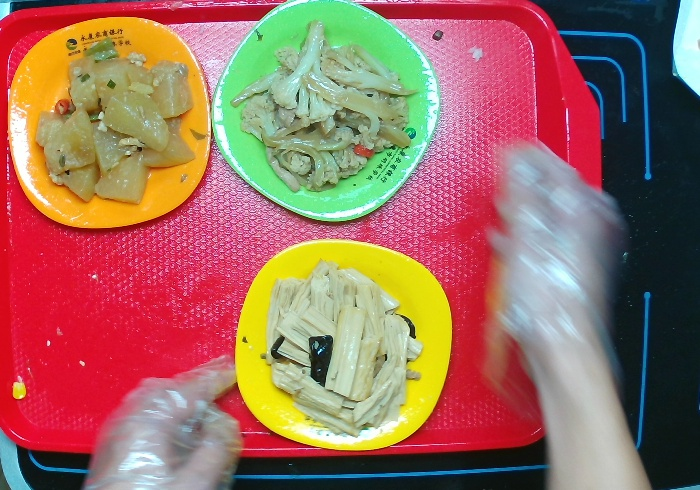YKMZ-Huang_Se_Fang_Die: (229, 235, 454, 457)
YKMZ-Ju_Se_Fang_Die: (2, 9, 215, 235)
YKMZ-Lv_Se_Fang_Die: (208, 1, 444, 226)
